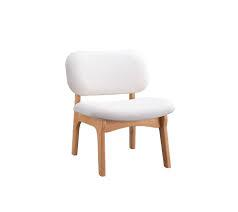chair: (47, 46, 185, 182)
